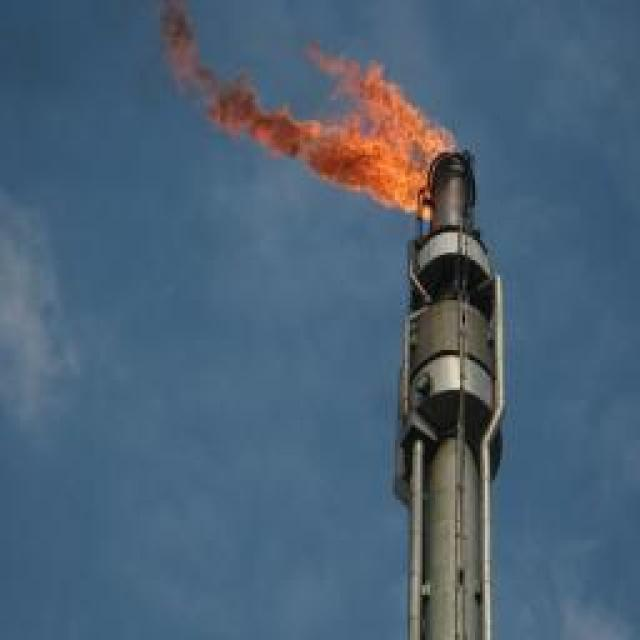fire: (208, 41, 453, 220)
smoke: (128, 0, 228, 109)
